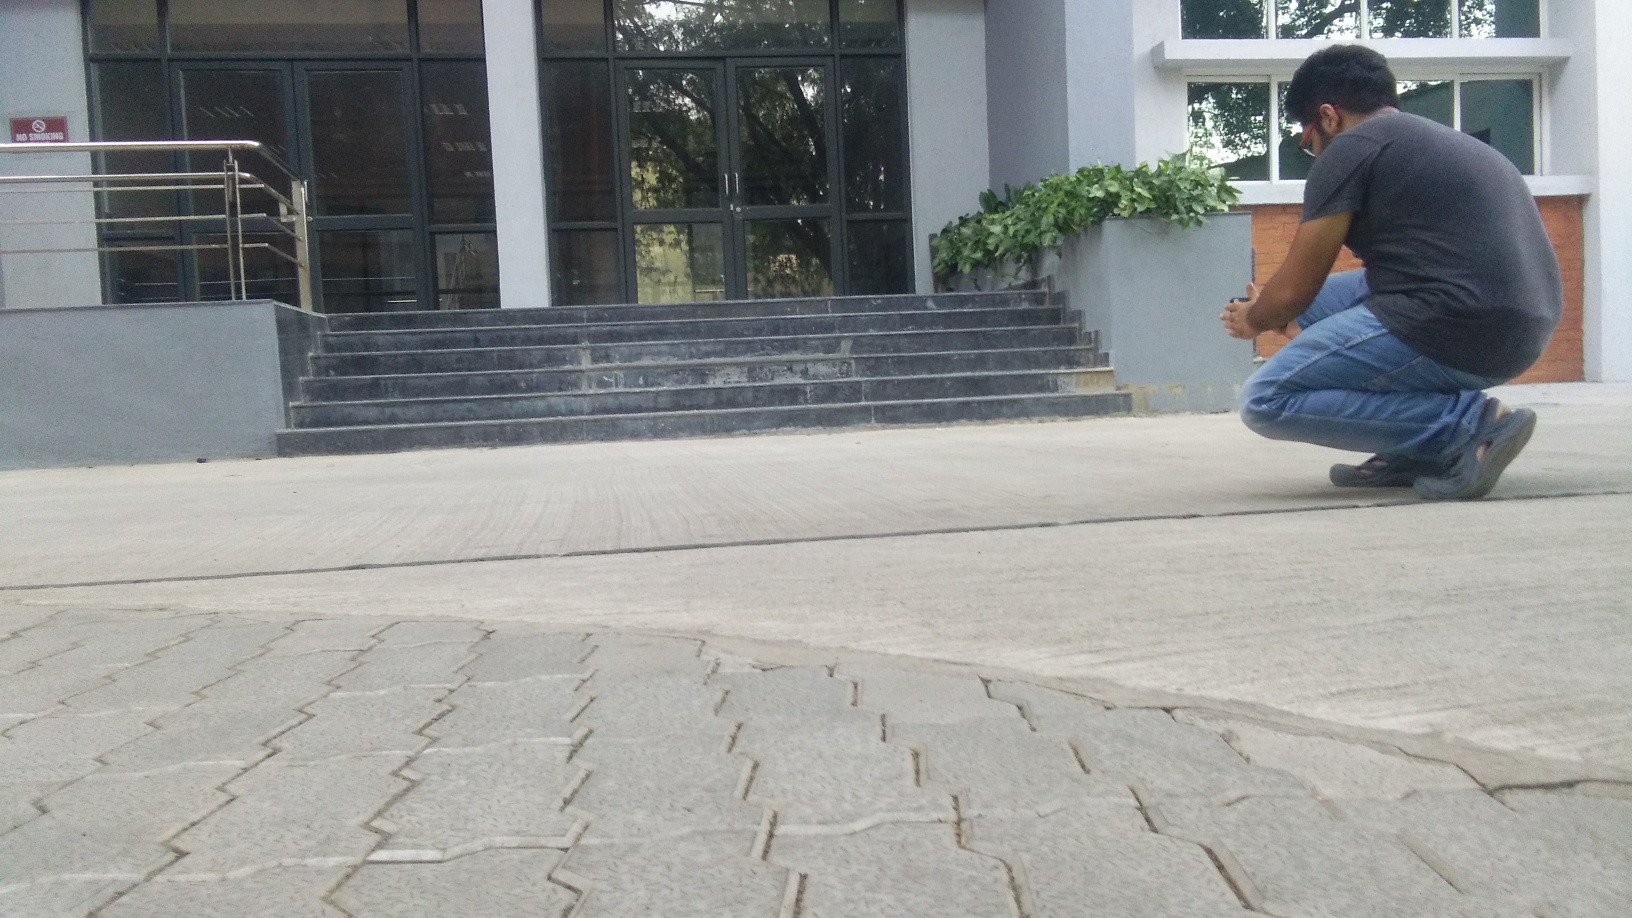stairs_up: (299, 291, 1123, 435)
